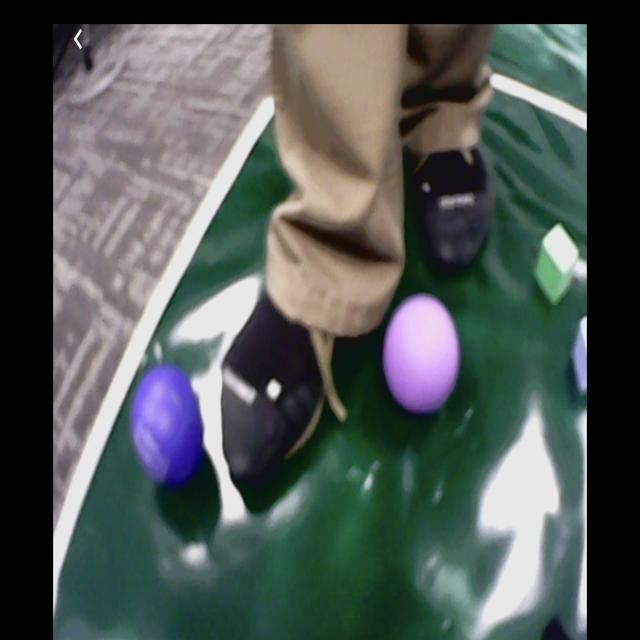ball: (385, 298, 460, 415), (133, 368, 204, 484)
